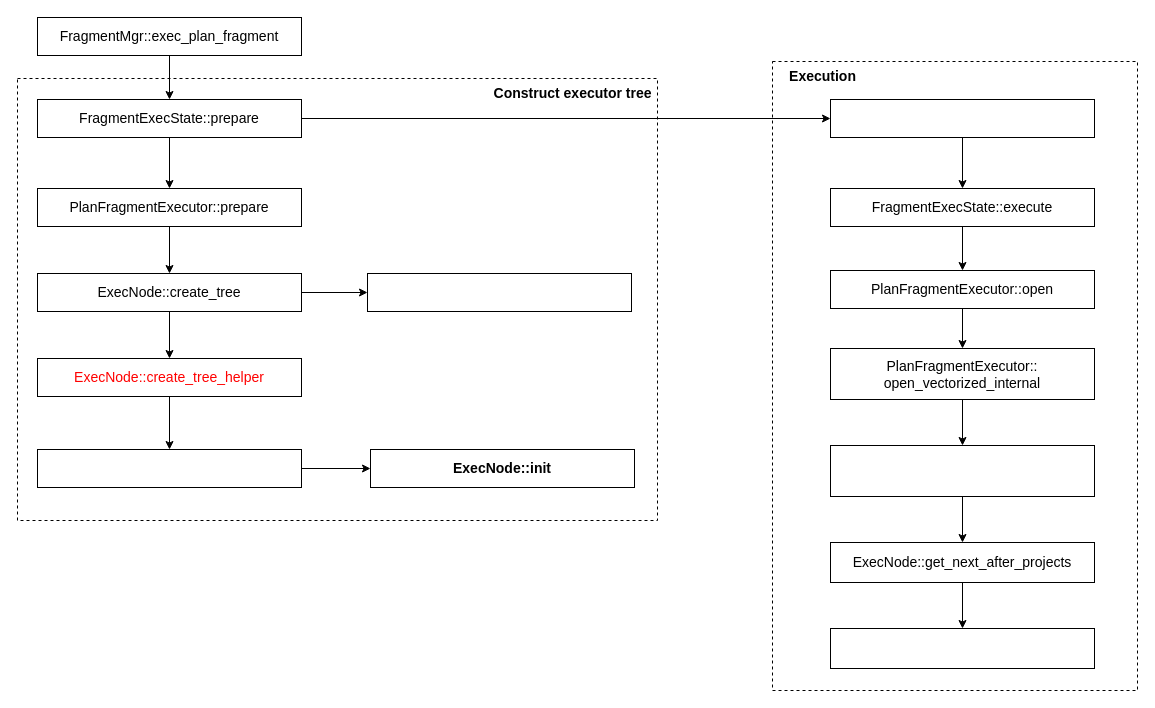
Some shapes in this 1155 by 708 pixel diagram are drawn without their labels. Each missing label, with the centre of its shape:
"ExecNode::create_node" belongs at pixel 169 468.
"ExecNode::get_next" belongs at pixel 962 648.
"ExecNode::prepare" belongs at pixel 499 292.
"FragmentMgr::_exec_actual" belongs at pixel 962 118.
"PlanFragmentExecutor:: get_vectorized_internal" belongs at pixel 962 470.
